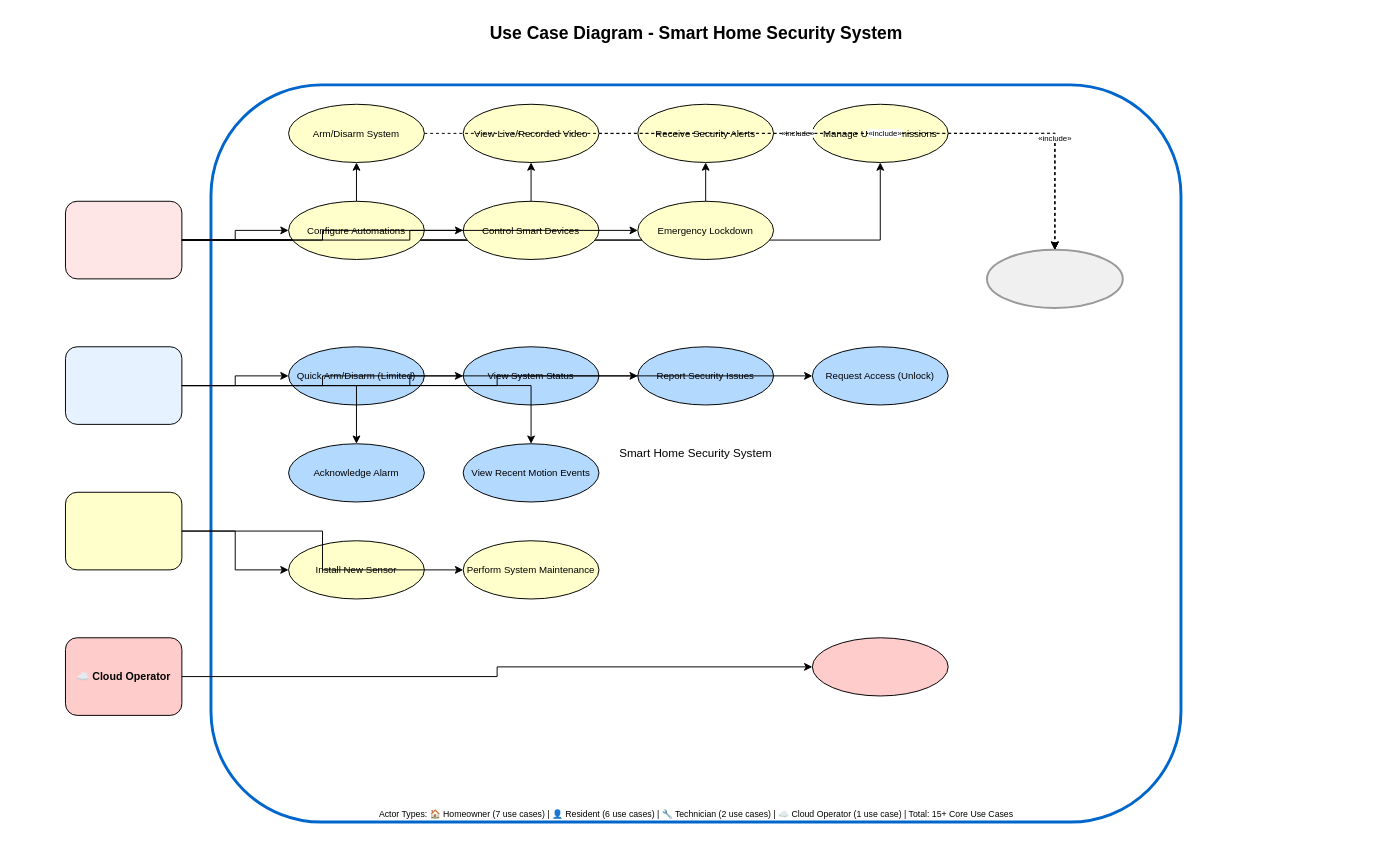
Image size: 1391x848. Some labels were removed from this diagram. The box of each missing label's shape, as (x1, y1, x2, y2) in pixels:
Authenticate User: (986, 248, 1123, 308)
Monitor System Analytics: (811, 637, 948, 696)
🏠 Homeowner: (65, 200, 182, 279)
👤 Resident: (65, 346, 182, 424)
🔧 Technician: (65, 491, 182, 570)
